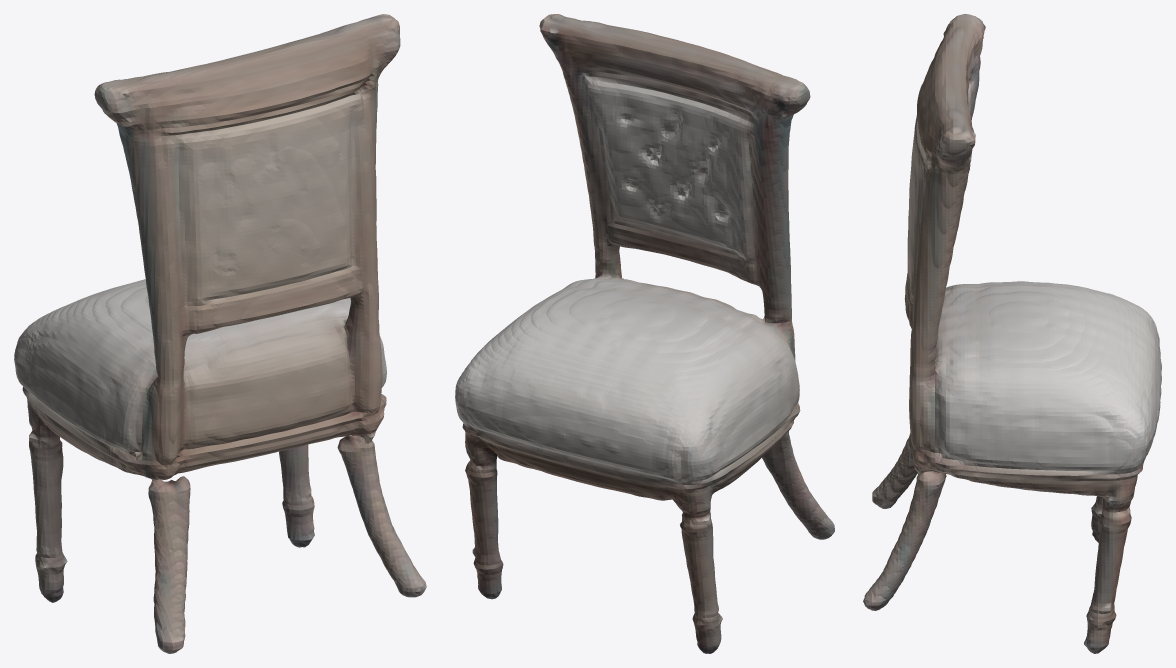
File: tmpkt41stbi.glb
3 renders of one model, left to right at view 1: azimuth 30°, elevation 25°; view 2: azimuth 150°, elevation 25°; view 3: azimuth 270°, elevation 25°, orthographic. The views are drawn at different scales.
Visible parts, largest first — view 1: world; view 2: world; view 3: world.
Boxes of the visible parts, bbox=[...] form: world: bbox=[14, 14, 426, 653]; world: bbox=[455, 14, 834, 653]; world: bbox=[863, 14, 1161, 653].
Bounding box in the file's own units: 0.5658 × 1.07 × 0.5502.
